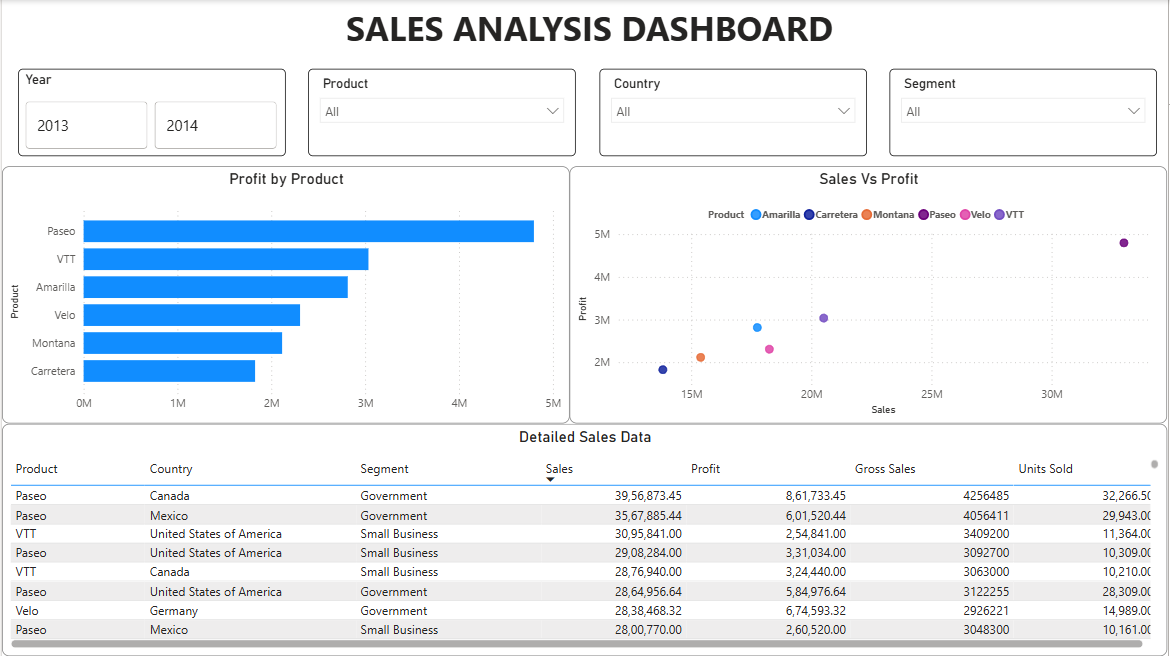

Layout of this report page (visuals, bound fields, positions):
{"tool":"powerbi","page":{"name":"Page 2","canvas":[1280,720],"ordinal":1},"visuals":[{"type":"textbox","box":[9.6,0,1270.7,63.1],"z":0},{"type":"advancedSlicerVisual","fields":{"Values":["Sheet1.Year"]},"box":[17.8,75.5,293.7,96.1],"z":1000},{"type":"slicer","fields":{"Values":["Sheet1.Country"]},"box":[655.5,75.5,293.7,96.1],"z":2000},{"type":"slicer","fields":{"Values":["Sheet1.Product"]},"box":[336.7,75.5,293.7,96.1],"z":3000},{"type":"slicer","fields":{"Values":["Sheet1.Segment"]},"box":[974.3,75.5,293.7,96.1],"z":4000},{"type":"barChart","title":" Profit by Product","fields":{"Category":["Sheet1.Product"],"Y":["Sum(Sheet1.Profit)"]},"box":[0,182.5,623,282.7],"z":5000},{"type":"scatterChart","title":"Sales Vs Profit","fields":{"Series":["Sheet1.Product"],"X":["Sum(Sheet1. Sales)"],"Y":["Sum(Sheet1.Profit)"]},"box":[623,182.5,655.9,282.7],"z":6000},{"type":"tableEx","title":"Detailed Sales Data","fields":{"Values":["Sheet1.Product","Sheet1.Country","Sheet1.Segment","Sum(Sheet1. Sales)","Sum(Sheet1.Profit)","Sum(Sheet1.Gross Sales)","Sum(Sheet1.Units Sold)"]},"box":[0,465.2,1278.9,255.2],"z":6001}]}

Visuals, with their boxes in screenshot pixels (x1, y1, x2, y2), scaled from the page's 1280x720 canvas onto the 1170x656 screenshot:
textbox: detection(9, 0, 1169, 57)
advancedSlicerVisual - Sheet1.Year: detection(16, 69, 285, 156)
slicer - Sheet1.Country: detection(599, 69, 868, 156)
slicer - Sheet1.Product: detection(308, 69, 576, 156)
slicer - Sheet1.Segment: detection(891, 69, 1159, 156)
" Profit by Product" barChart: detection(0, 166, 569, 424)
"Sales Vs Profit" scatterChart: detection(569, 166, 1169, 424)
"Detailed Sales Data" tableEx: detection(0, 424, 1169, 655)
